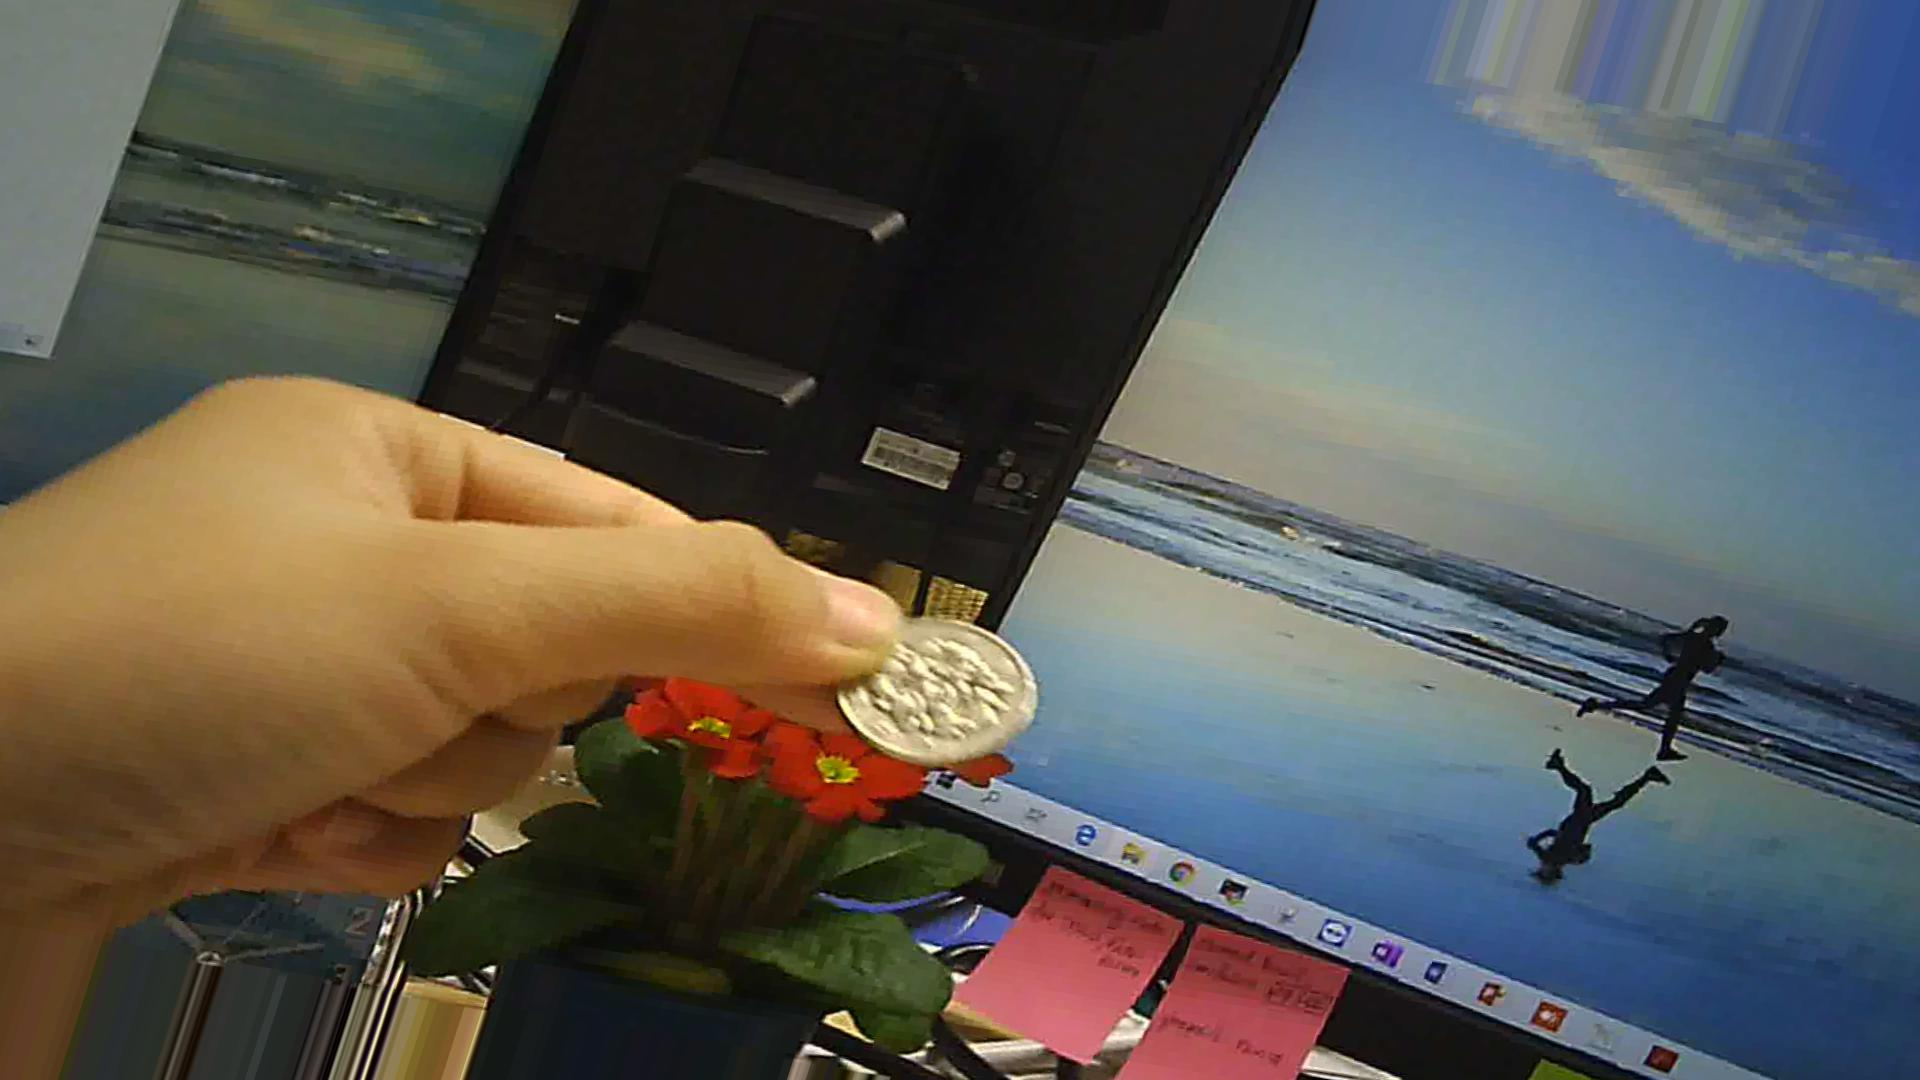100 Yen: (828, 603, 1038, 765)
